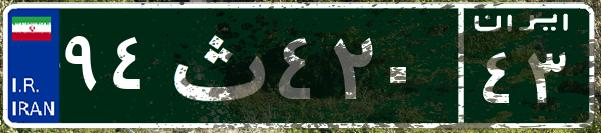0: (385, 28, 445, 110)
2: (330, 28, 385, 110)
3: (525, 38, 570, 115)
4: (273, 28, 330, 110), (475, 38, 525, 113), (110, 28, 158, 105)
9: (57, 26, 110, 107)
ث: (158, 15, 273, 115)
